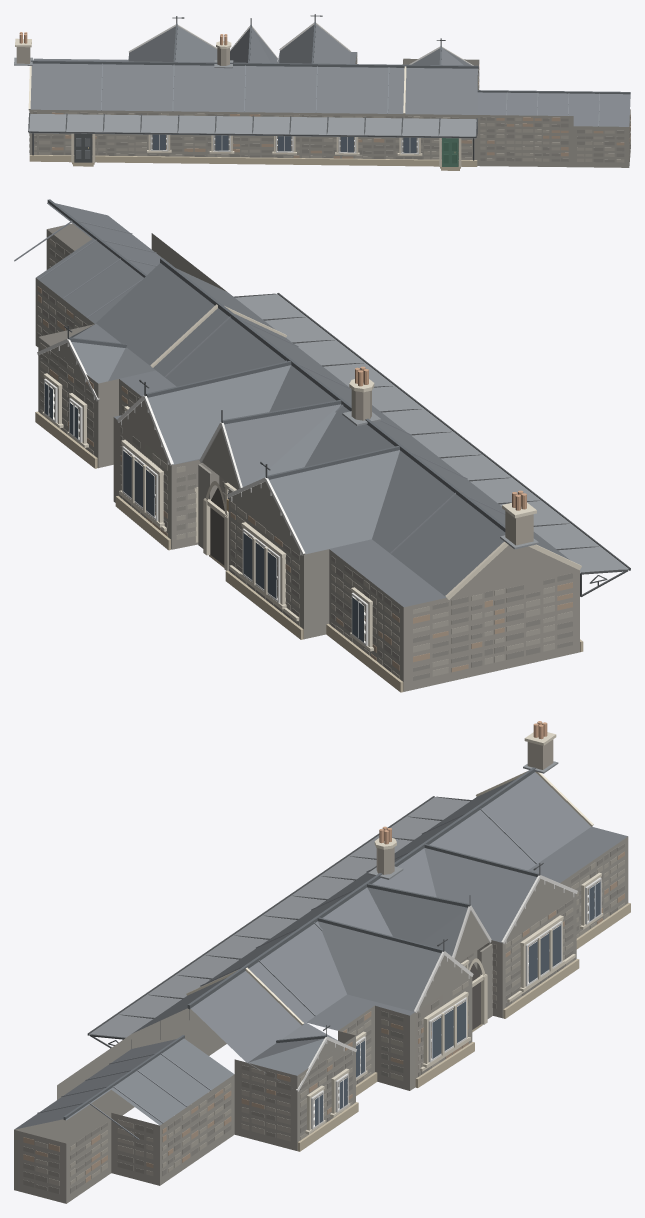
The picture shows the model from 3 angles, top to bottom: view 1: azimuth 30°, elevation 25°; view 2: azimuth 150°, elevation 25°; view 3: azimuth 270°, elevation 25°; orthographic projection. The views are drawn at different scales.
Visible parts, largest first — view 1: slate, rubble, lead, rubble_dk, rubble_lt, ss_dk, slate_dk, ss_lt, pipe, frame, rubble_rust, chim_stone (+3 smaller); view 2: slate, rubble, lead, ss_lt, rubble_dk, rubble_lt, slate_dk, frame, ss_dk, pipe, rubble_rust, slate_lt (+2 smaller); view 3: slate, rubble, lead, rubble_lt, rubble_dk, ss_lt, slate_dk, frame, ss_dk, rubble_rust, pipe, slate_lt (+1 smaller).
Part boxes in pixels (<box>): slate: <box>30,24,630,126</box>; rubble: <box>29,53,630,167</box>; lead: <box>14,57,476,138</box>; rubble_dk: <box>29,57,630,162</box>; rubble_lt: <box>29,73,630,162</box>; ss_dk: <box>29,155,477,170</box>; slate_dk: <box>31,22,630,94</box>; ss_lt: <box>15,38,461,167</box>; pipe: <box>28,14,477,160</box>; frame: <box>128,22,479,154</box>; rubble_rust: <box>52,63,630,158</box>; chim_stone: <box>16,47,229,65</box>; slate: <box>36,202,570,607</box>; rubble: <box>35,223,579,691</box>; lead: <box>235,294,630,572</box>; ss_lt: <box>42,304,581,651</box>; rubble_dk: <box>37,243,572,680</box>; rubble_lt: <box>37,239,572,678</box>; slate_dk: <box>47,199,505,531</box>; frame: <box>37,338,368,645</box>; ss_dk: <box>35,411,583,692</box>; pipe: <box>64,293,630,596</box>; rubble_rust: <box>37,286,572,672</box>; slate_lt: <box>14,220,505,553</box>; slate: <box>14,772,627,1129</box>; rubble: <box>14,836,628,1203</box>; lead: <box>87,761,558,1037</box>; rubble_lt: <box>35,856,624,1185</box>; rubble_dk: <box>23,843,624,1194</box>; ss_lt: <box>186,732,603,1134</box>; slate_dk: <box>63,767,539,1120</box>; frame: <box>296,875,601,1129</box>; ss_dk: <box>297,903,630,1151</box>; rubble_rust: <box>23,851,624,1182</box>; pipe: <box>87,796,543,1048</box>; slate_lt: <box>37,808,536,1139</box>.
Bounding box in the file's own units: 34.41 × 7.77 × 26.12.
